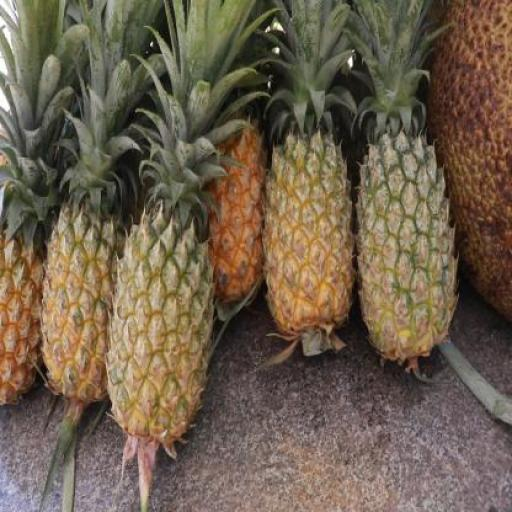------------------------------: (108, 214, 213, 438)
Pineapple - v8 v1: (40, 212, 132, 410), (264, 140, 351, 335), (0, 229, 42, 412)
